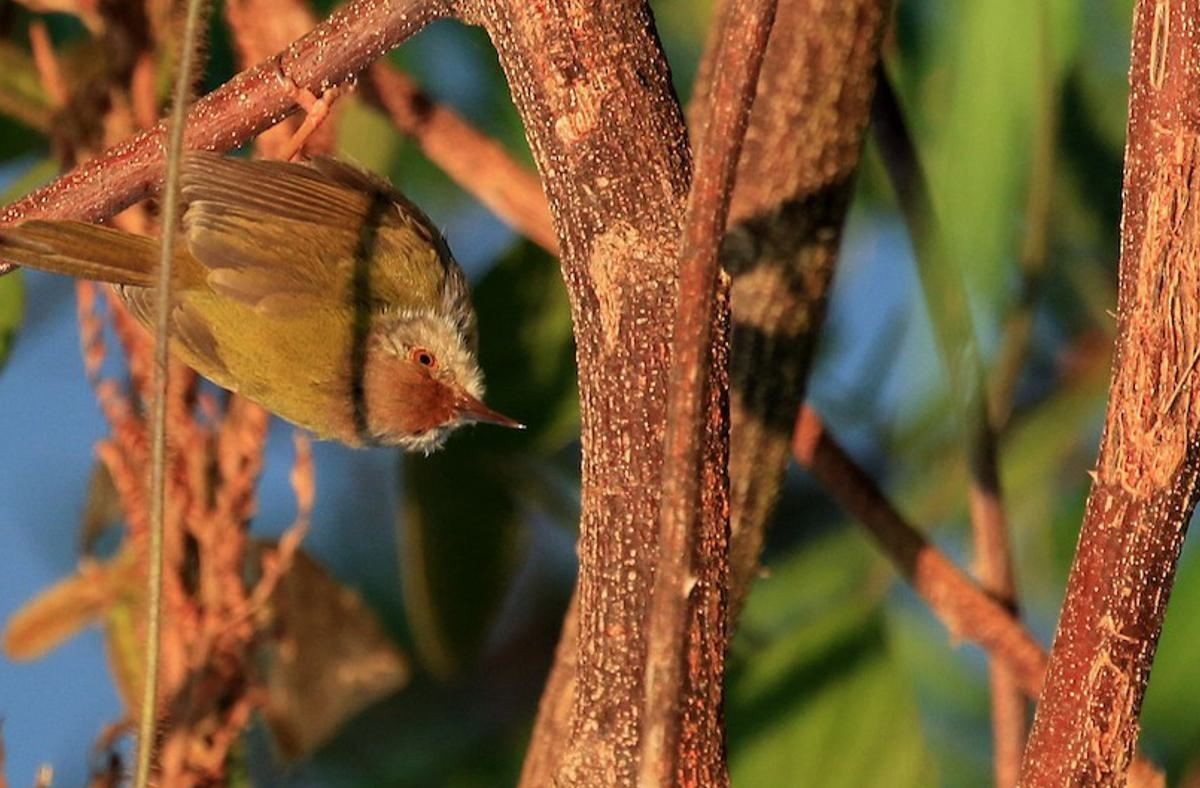tailorbird: (8, 44, 531, 471)
